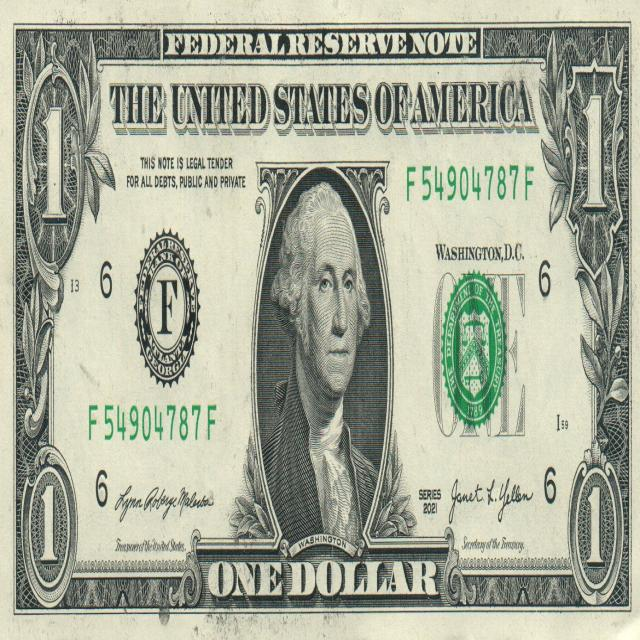SerialNumber: (89, 405, 216, 441), (407, 165, 533, 201)
